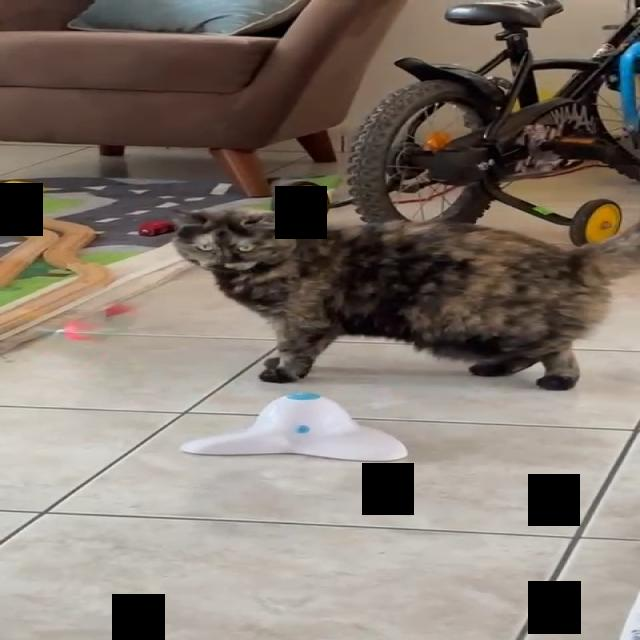authorized: (171, 205, 638, 390)
